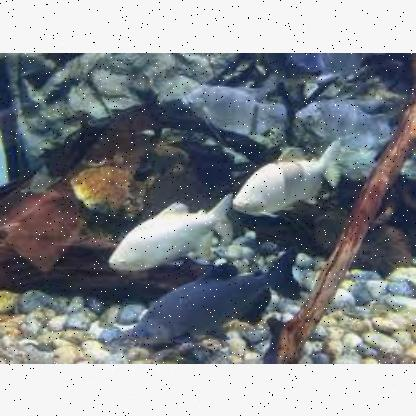gurame: (134, 250, 302, 348), (112, 209, 224, 270), (232, 155, 344, 211)
